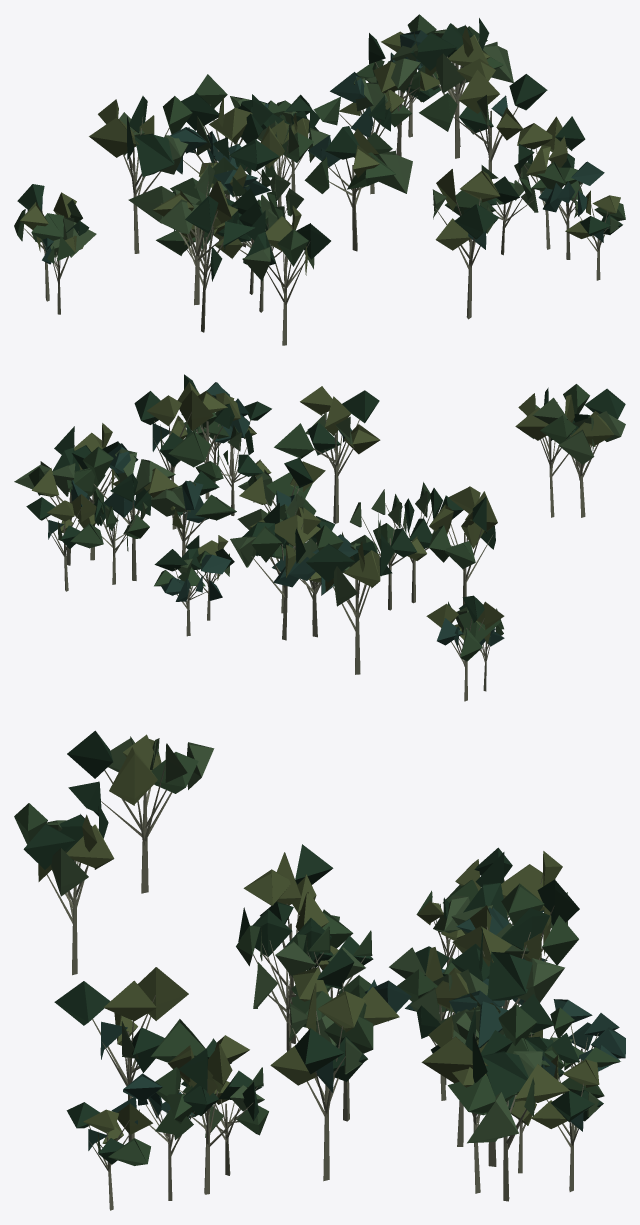
The model's file is forest_24_26.dae.
3 views of the same model, one above another, from view 1: azimuth 30°, elevation 25°; view 2: azimuth 150°, elevation 25°; view 3: azimuth 270°, elevation 25° (orthographic). The views are drawn at different scales.
Parts seen in each view (by area): view 1: Node; view 2: Node; view 3: Node.
Part boxes in pixels (left/top/right/bottom): Node: left=14, top=14, right=625, bottom=345; Node: left=14, top=374, right=625, bottom=701; Node: left=14, top=730, right=625, bottom=1210.
Size of the model in its own units: 11.68 by 9.67 by 4.91.
